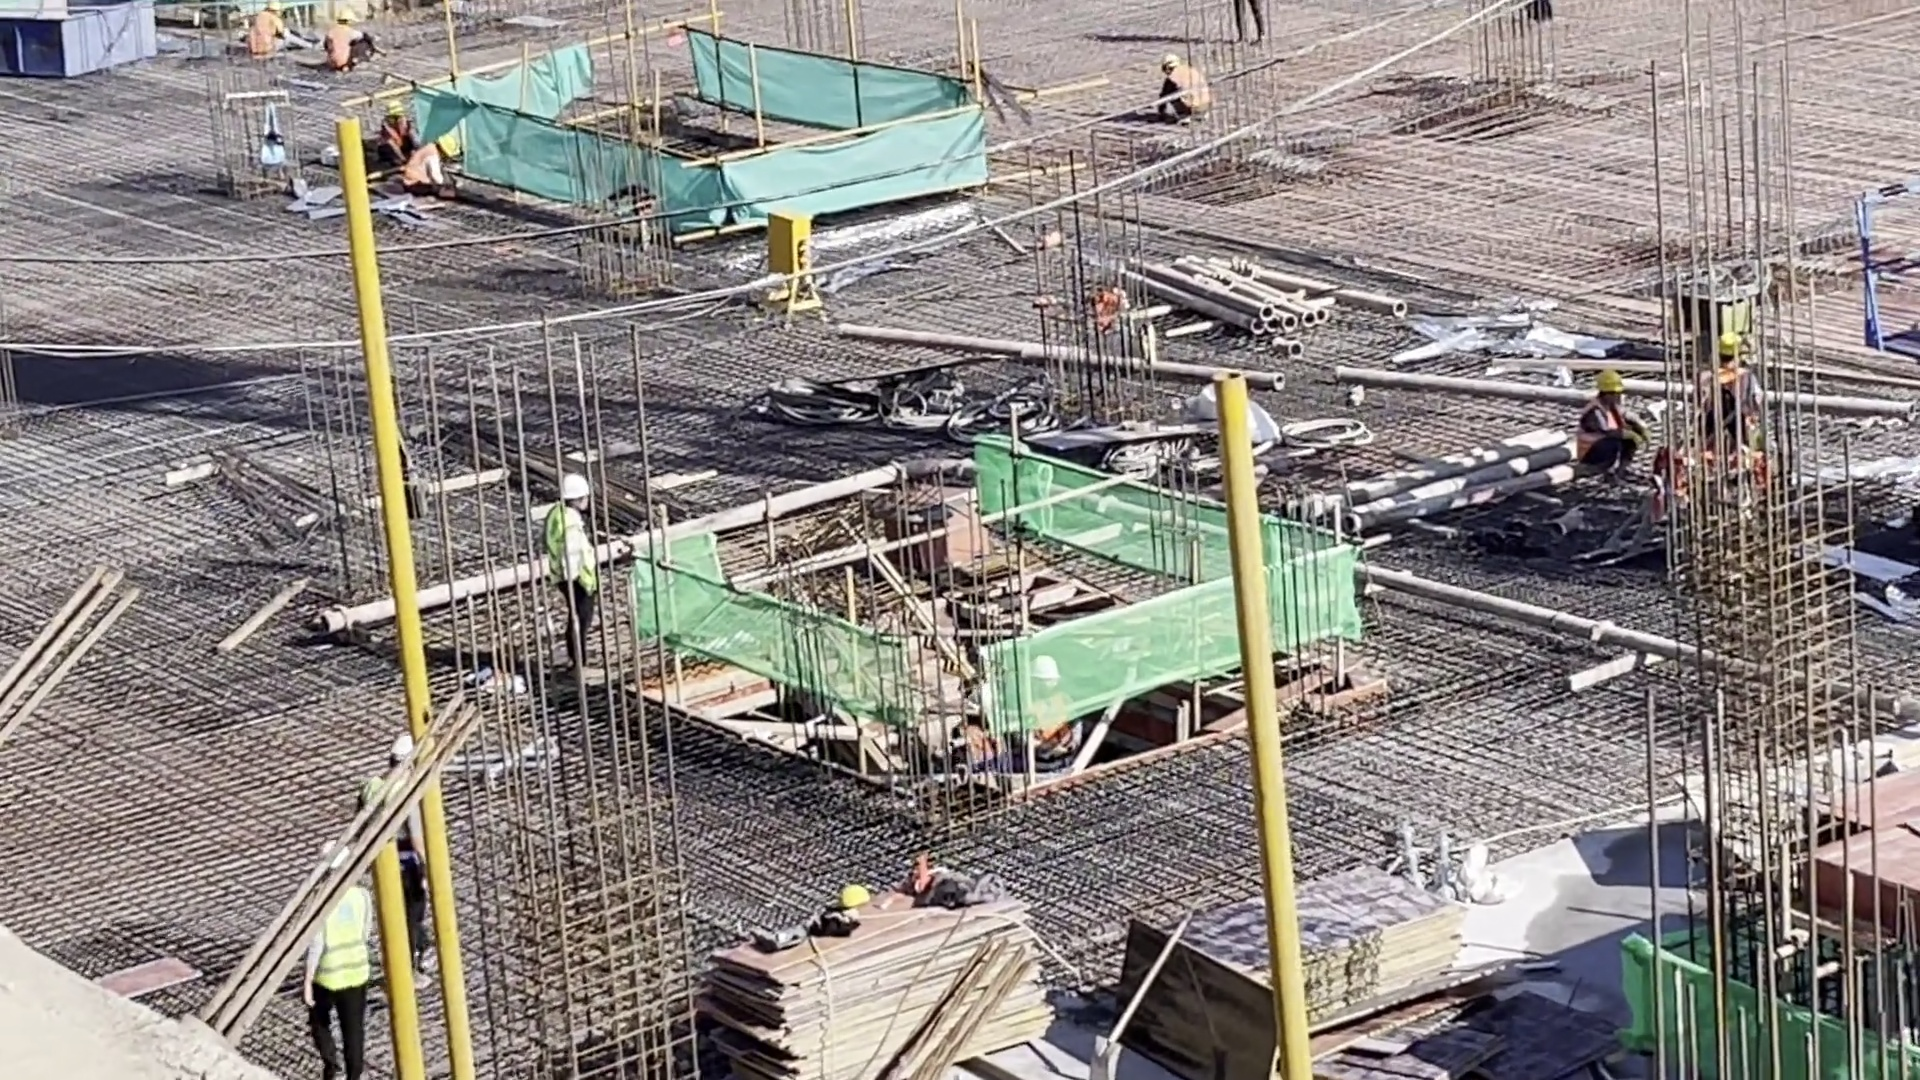board: (1119, 850, 1463, 1080), (675, 873, 1030, 1080)
ebox: (753, 204, 829, 327)
helmet: (316, 838, 354, 870), (559, 473, 594, 507), (1595, 372, 1622, 396), (439, 135, 464, 156)
hopper: (1, 1, 162, 92)
person: (295, 837, 377, 1069), (362, 729, 437, 977), (544, 460, 602, 661), (1567, 360, 1655, 484), (1017, 655, 1079, 768), (946, 690, 1009, 787), (244, 1, 319, 66), (1150, 50, 1215, 118), (407, 132, 473, 196), (316, 10, 376, 75), (374, 94, 412, 176)
vest: (313, 884, 369, 999), (550, 508, 597, 600), (1578, 405, 1624, 469), (1162, 70, 1207, 113), (325, 22, 351, 64), (250, 13, 277, 54)
